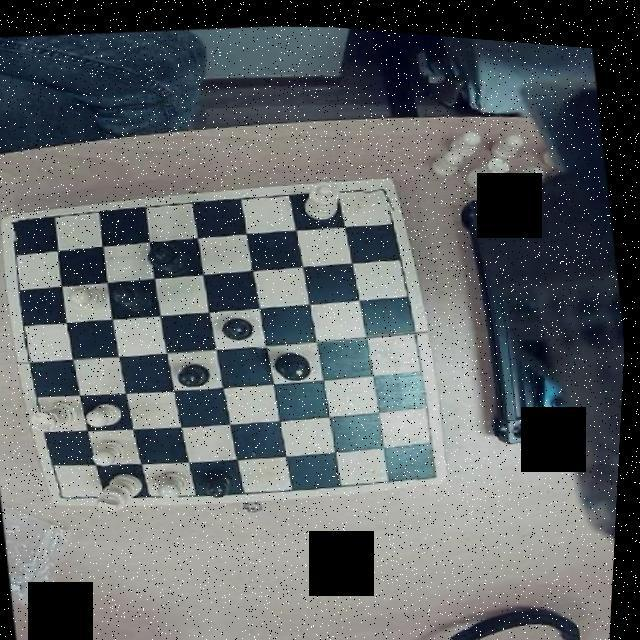chess-table-corners: (363, 171, 399, 208), (4, 208, 38, 242), (417, 442, 448, 478), (52, 476, 86, 504)
